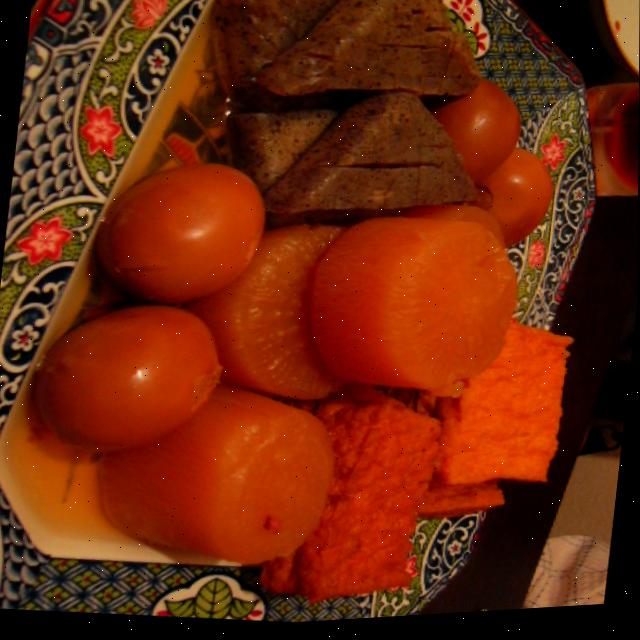汤锅炖物: (1, 0, 615, 640)
